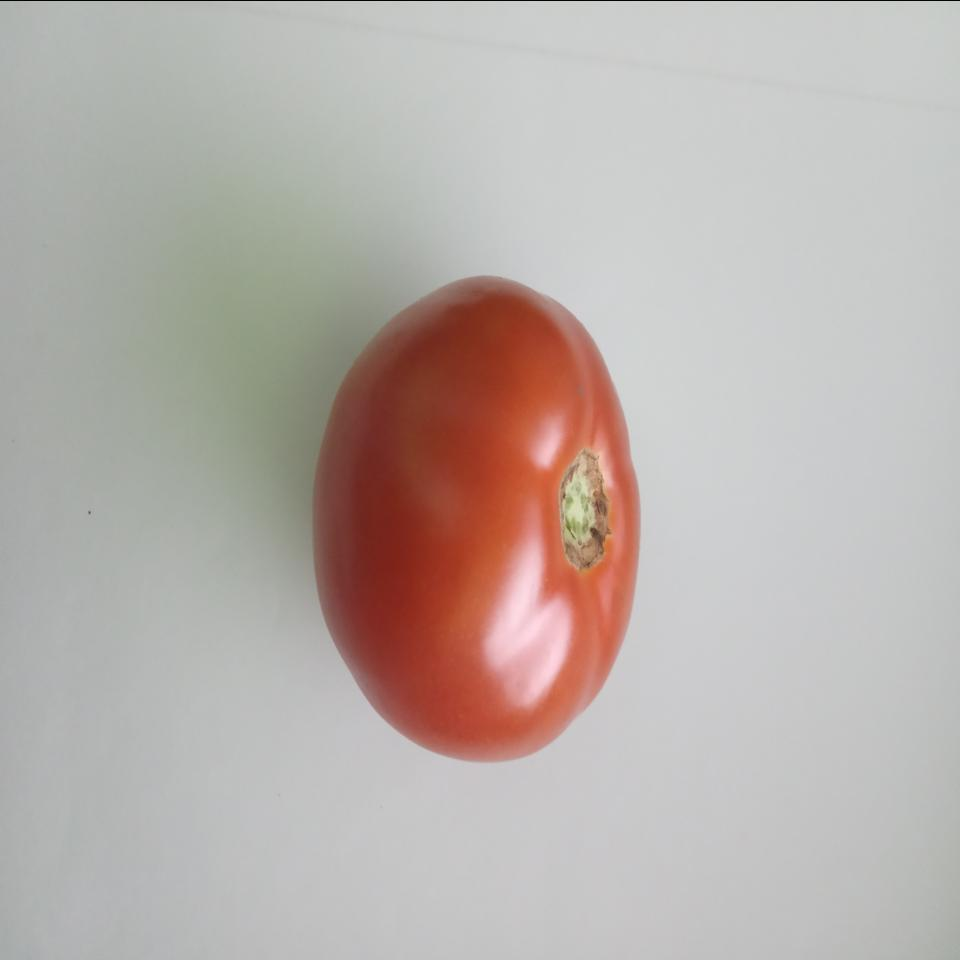Healthy: (292, 265, 662, 775)
